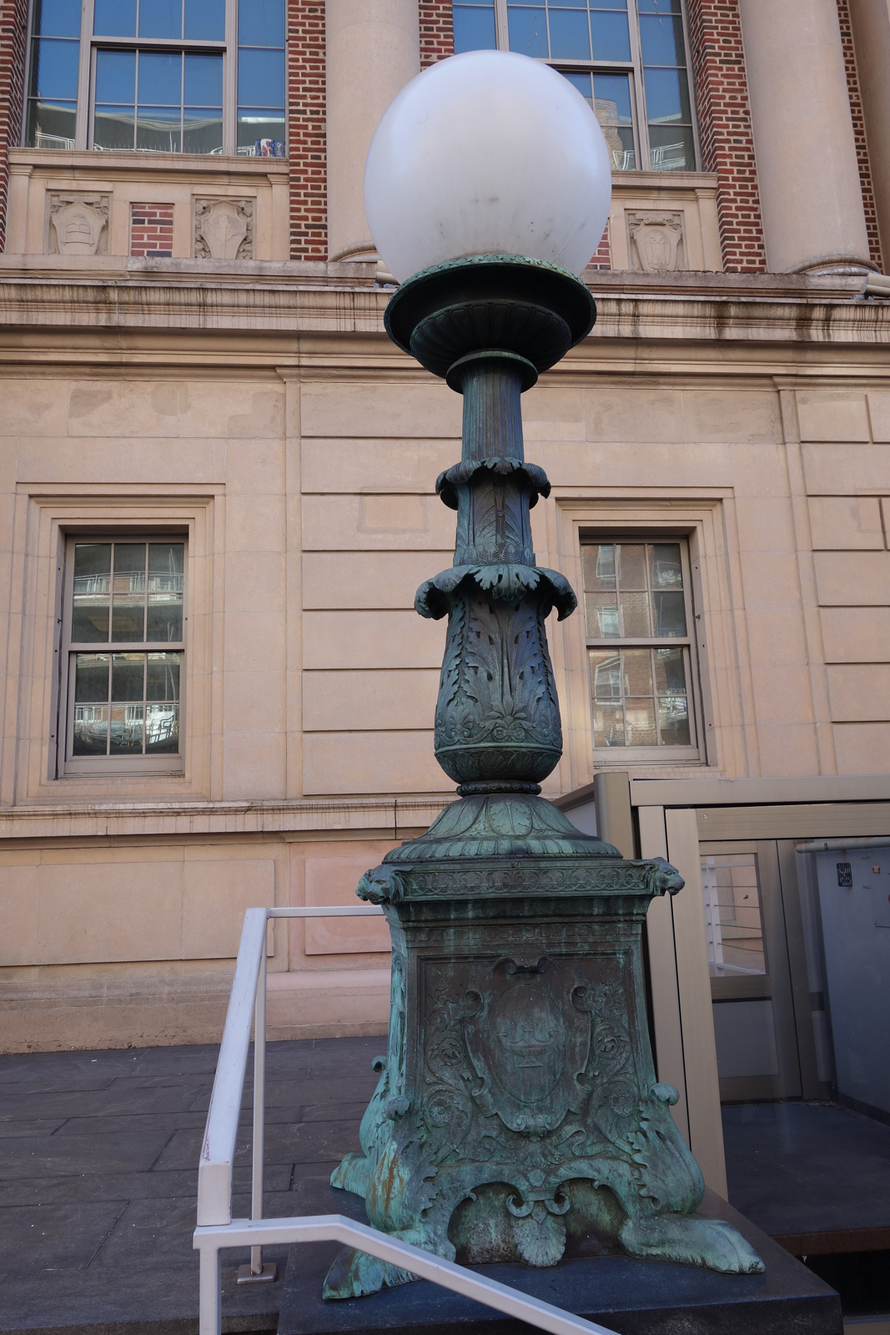fachada: (4, 0, 890, 1051)
poste: (317, 0, 772, 1306)
